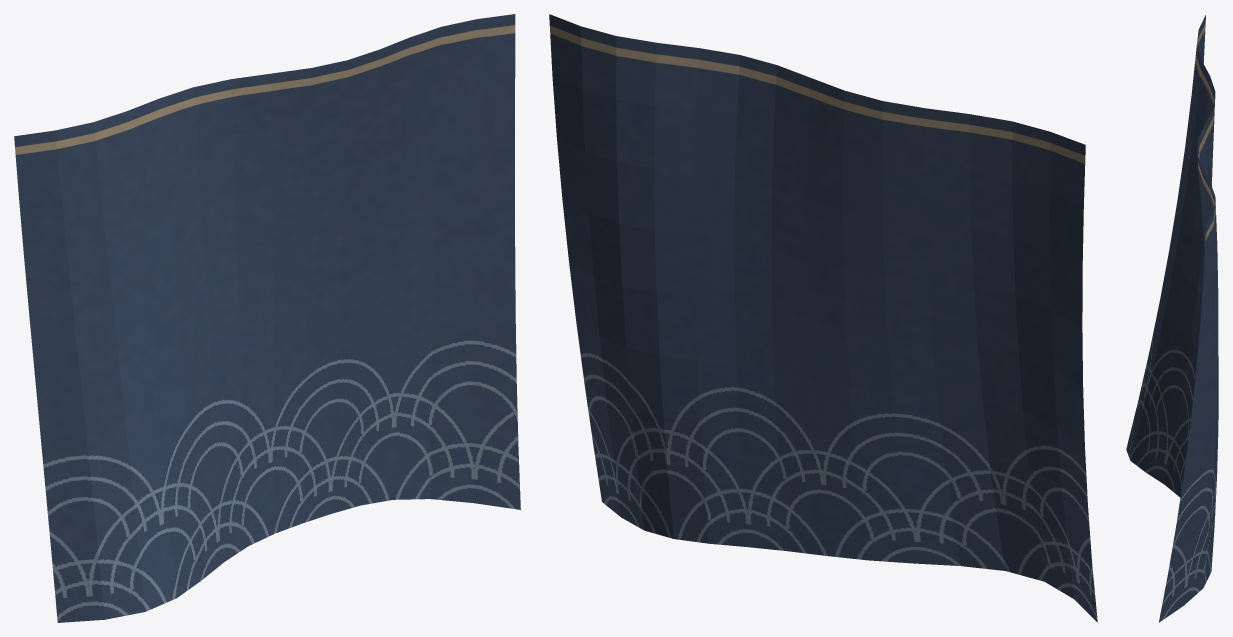
Rendered from bay_2.gltf.
3 views of the same model, side by side, from view 1: azimuth 30°, elevation 25°; view 2: azimuth 150°, elevation 25°; view 3: azimuth 270°, elevation 25° (orthographic). The views are drawn at different scales.
Visible parts, largest first — view 1: indigo_noren; view 2: indigo_noren; view 3: indigo_noren.
Boxes of the visible parts, x1,y1,x2,y2 form: indigo_noren: [14, 14, 520, 622]; indigo_noren: [549, 14, 1097, 622]; indigo_noren: [1126, 15, 1218, 622].
Bounding box in the file's own units: 0.68 × 0.61 × 0.1258.
Materials: 1 (1 with a texture image).
